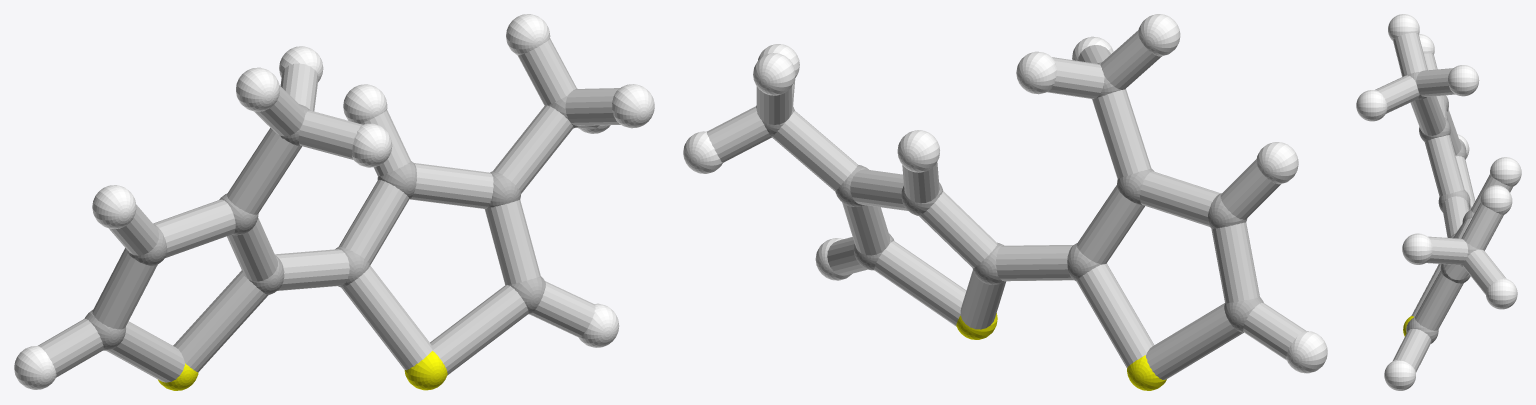
The model's file is Methylthiophene_Phi_20_Theta_140_Methylthiophene.glb.
3 views of the same model, side by side, from view 1: azimuth 30°, elevation 25°; view 2: azimuth 150°, elevation 25°; view 3: azimuth 270°, elevation 25° (orthographic). The views are drawn at different scales.
Parts seen in each view (by area): view 1: grp7965, grp3621, grp1, grp7241; view 2: grp7965, grp3621, grp1, grp7241; view 3: grp7965, grp3621, grp1.
Part boxes in pixels (<box>): grp7965: <box>38,38,620,382</box>; grp3621: <box>14,14,654,389</box>; grp1: <box>84,88,577,350</box>; grp7241: <box>158,351,447,390</box>; grp7965: <box>706,30,1305,379</box>; grp3621: <box>683,14,1327,373</box>; grp1: <box>756,62,1263,332</box>; grp7241: <box>956,313,1166,390</box>; grp7965: <box>1375,33,1512,372</box>; grp3621: <box>1356,14,1521,390</box>; grp1: <box>1406,72,1478,343</box>.
Bounding box in the file's own units: 9.83 × 5.53 × 3.12.
